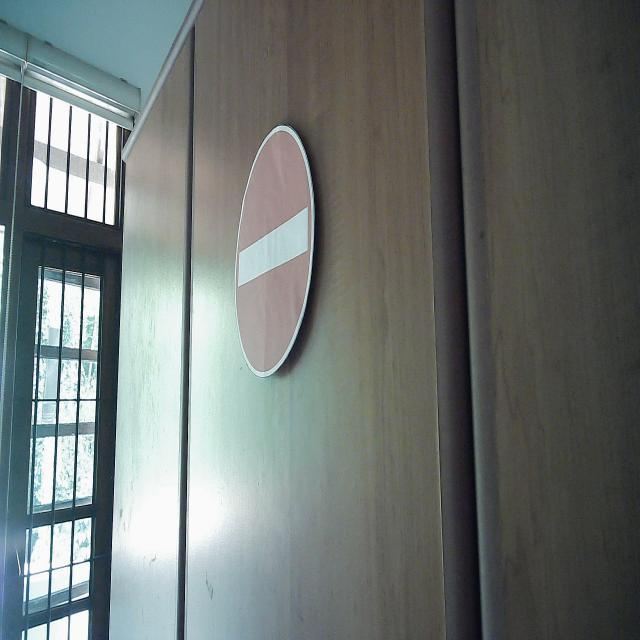no_entry: (233, 123, 317, 380)
